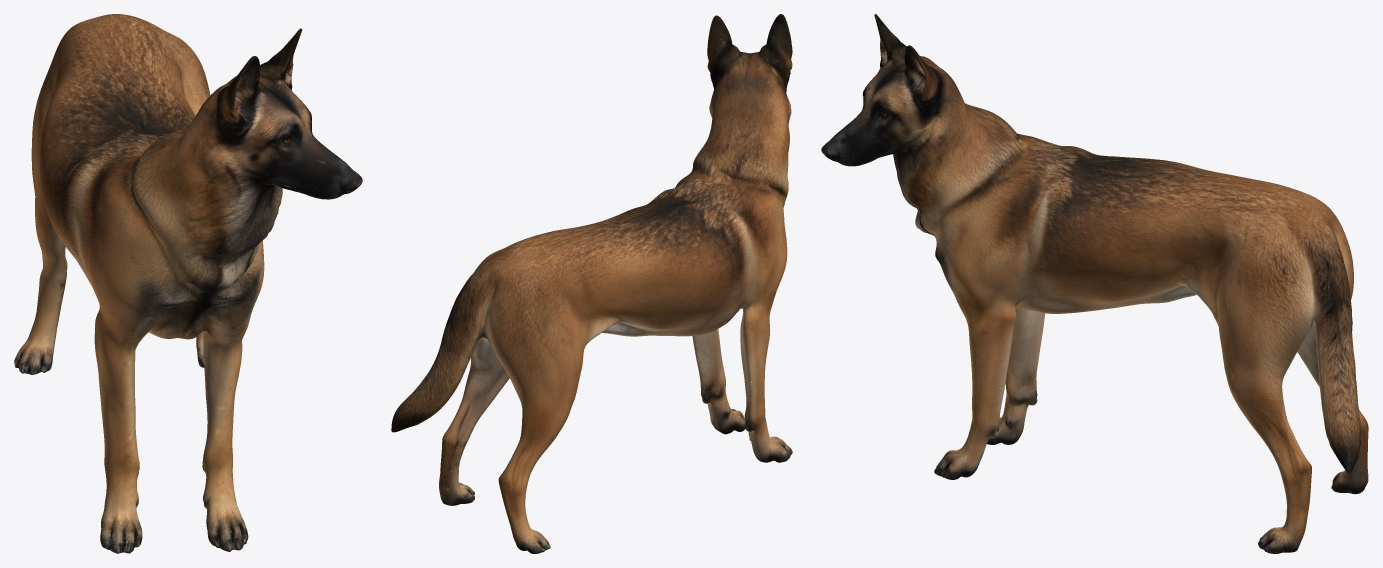
File: dog.glb
3 views of the same model, side by side, from view 1: azimuth 30°, elevation 25°; view 2: azimuth 150°, elevation 25°; view 3: azimuth 270°, elevation 25° (orthographic). The views are drawn at different scales.
Parts seen in each view (by area): view 1: Mesh_0; view 2: Mesh_0; view 3: Mesh_0.
Part boxes in pixels (bbox=[...]): Mesh_0: bbox=[14, 14, 362, 553]; Mesh_0: bbox=[391, 14, 792, 553]; Mesh_0: bbox=[821, 14, 1368, 553].
Size of the model in its own units: 1.12 by 1.73 by 1.9.
Materials: 1 (1 with a texture image).
